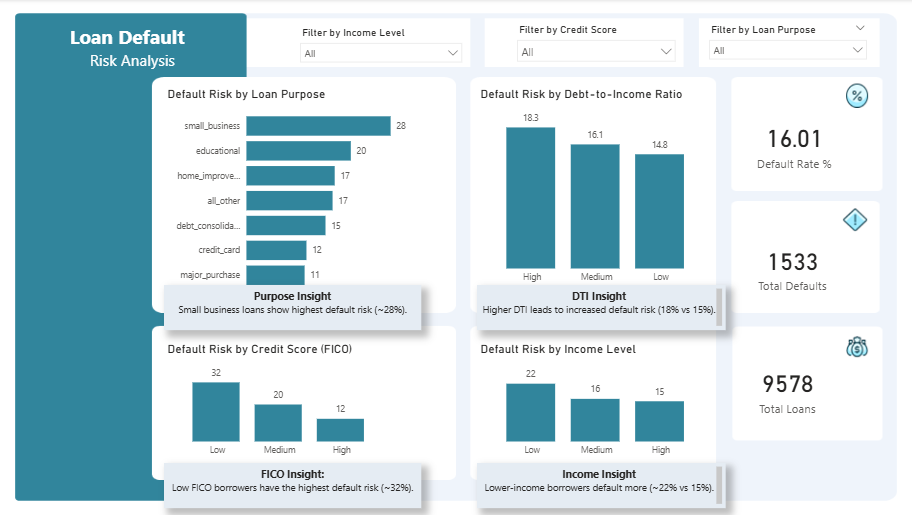

The dashboard page shown, as its layout file describes it:
{"tool":"powerbi","page":{"name":"Page 1","canvas":[1280,720],"ordinal":0},"visuals":[{"type":"card","fields":{"Values":["loan_analysis.Total Loans"]},"box":[1039.5,499.5,127,90.7],"z":0},{"type":"card","fields":{"Values":["loan_analysis.Total Defaults"]},"box":[1047.9,329.3,124.2,89.3],"z":1000},{"type":"card","fields":{"Values":["loan_analysis.Default Rate %"]},"box":[1047.9,157.7,129.8,90.7],"z":2000},{"type":"columnChart","title":"Default Risk by Credit Score (FICO)","fields":{"Category":["loan_analysis.FICO Category"],"Y":["loan_analysis.Default Rate %"]},"box":[233,478.6,322.3,168.8],"z":3000},{"type":"barChart","title":"Default Risk by Loan Purpose","fields":{"Category":["loan_analysis.purpose"],"Y":["loan_analysis.Default Rate %"]},"box":[233,122.8,407.4,295.8],"z":4000},{"type":"columnChart","title":"Default Risk by Income Level","fields":{"Category":["loan_analysis.Income Group"],"Y":["loan_analysis.Default Rate %"]},"box":[669.8,478.6,333.5,168.8],"z":5000},{"type":"columnChart","title":"Default Risk by Debt-to-Income Ratio","fields":{"Category":["loan_analysis.DTI Group"],"Y":["loan_analysis.Default Rate %"]},"box":[669.8,122.8,333.5,283.3],"z":6000},{"type":"slicer","fields":{"Values":["loan_analysis.purpose"]},"box":[984.3,28.8,239.6,60.7],"z":7000},{"type":"slicer","fields":{"Values":["loan_analysis.FICO Category"]},"box":[715.8,28.8,241.1,60.7],"z":8000},{"type":"slicer","fields":{"Values":["loan_analysis.Income Group"]},"box":[412.5,33.4,245.7,56.1],"z":9000},{"type":"textbox","box":[66.7,28.8,244.2,81.9],"z":10000},{"type":"textbox","box":[233,647.4,358.6,62.8],"z":11000},{"type":"textbox","box":[669.8,647.4,347.4,62.8],"z":12000},{"type":"textbox","box":[669.8,399.1,347.4,62.8],"z":13000},{"type":"textbox","box":[233,399.1,358.6,62.8],"z":14000}]}

Visuals, with their boxes in screenshot pixels (x1, y1, x2, y2), scaled from the page's 1280x720 canvas onto the 912x515 screenshot:
card - loan_analysis.Total Loans: (x1=741, y1=357, x2=831, y2=422)
card - loan_analysis.Total Defaults: (x1=747, y1=236, x2=835, y2=299)
card - loan_analysis.Default Rate %: (x1=747, y1=113, x2=839, y2=178)
"Default Risk by Credit Score (FICO)" columnChart: (x1=166, y1=342, x2=396, y2=463)
"Default Risk by Loan Purpose" barChart: (x1=166, y1=88, x2=456, y2=299)
"Default Risk by Income Level" columnChart: (x1=477, y1=342, x2=715, y2=463)
"Default Risk by Debt-to-Income Ratio" columnChart: (x1=477, y1=88, x2=715, y2=290)
slicer - loan_analysis.purpose: (x1=701, y1=21, x2=872, y2=64)
slicer - loan_analysis.FICO Category: (x1=510, y1=21, x2=682, y2=64)
slicer - loan_analysis.Income Group: (x1=294, y1=24, x2=469, y2=64)
textbox: (x1=48, y1=21, x2=222, y2=79)
textbox: (x1=166, y1=463, x2=422, y2=508)
textbox: (x1=477, y1=463, x2=725, y2=508)
textbox: (x1=477, y1=285, x2=725, y2=330)
textbox: (x1=166, y1=285, x2=422, y2=330)
